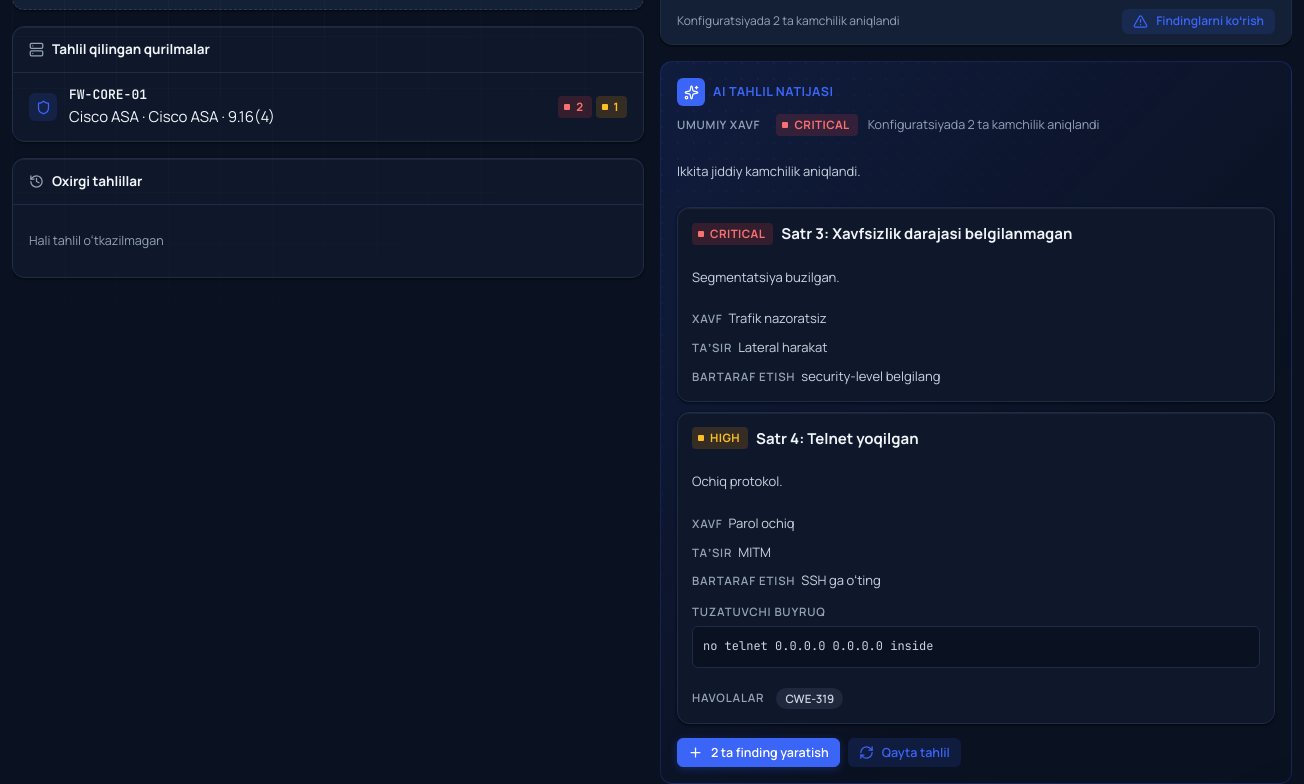
Test case: ConfigAnalysisScreen › shows the degraded message when re-analysis cannot reach the model
(page scrolled)
Click the button "Qayta tahlil" at (904, 752), box [848,738,961,767]
(page scrolled)
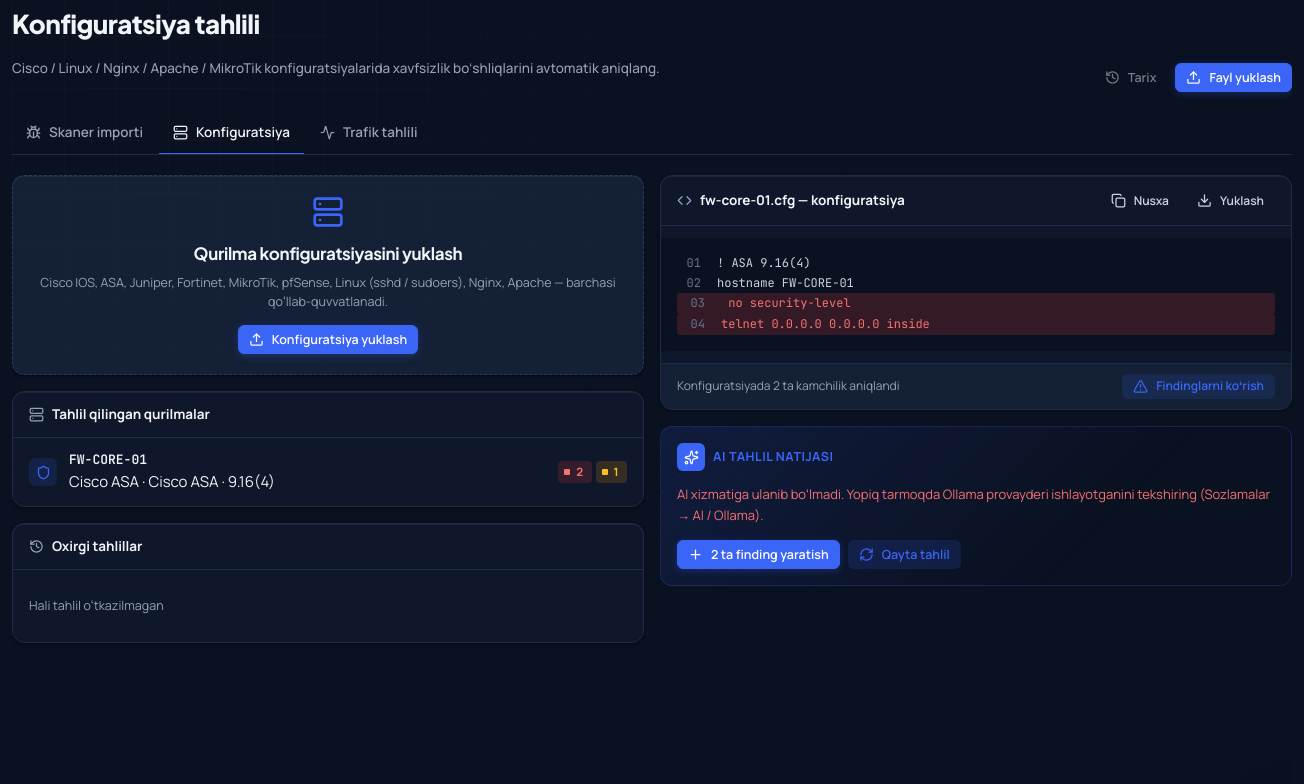
Expected: the message shows "AI xizmatiga ulanib boʻlmadi", [677,485,1270,524]
